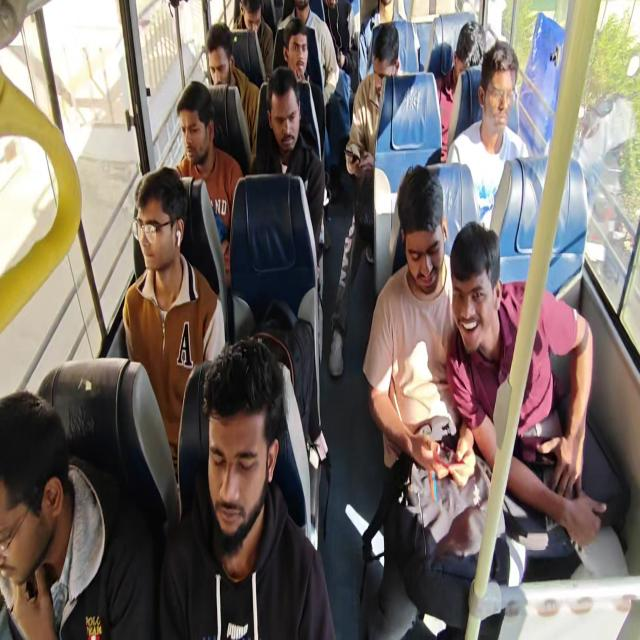person: (196, 402, 278, 540), (0, 437, 62, 585), (127, 178, 183, 280), (450, 242, 493, 348), (396, 206, 440, 295), (487, 68, 521, 153), (263, 88, 305, 154), (367, 28, 400, 92), (206, 33, 240, 91), (178, 112, 212, 162), (450, 26, 479, 80), (285, 29, 311, 72), (240, 0, 266, 38)
